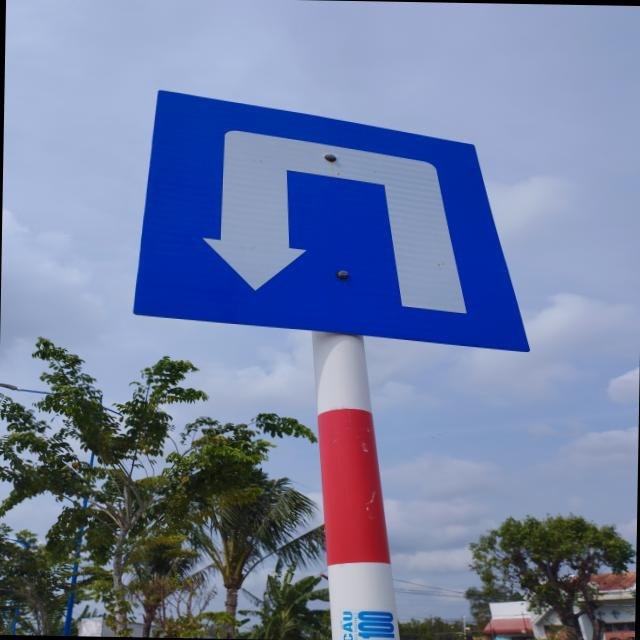Den_Giao_Thong: (132, 88, 534, 352)
